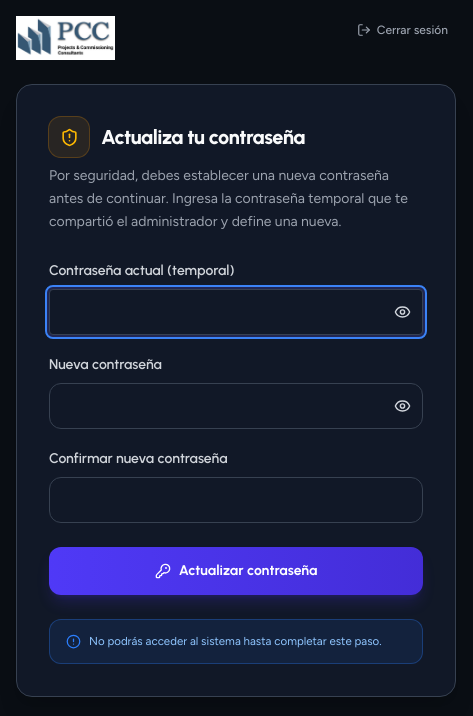
Test: ChangePasswordRequiredPage › muestra el error de contraseña actual incorrecta que devuelve el backend
Type "esto-no-es-correcto" into the password field labelled "Contraseña actual (temporal)".
click(236, 312); type("esto-no-es-correcto")  # box [49, 289, 423, 335]
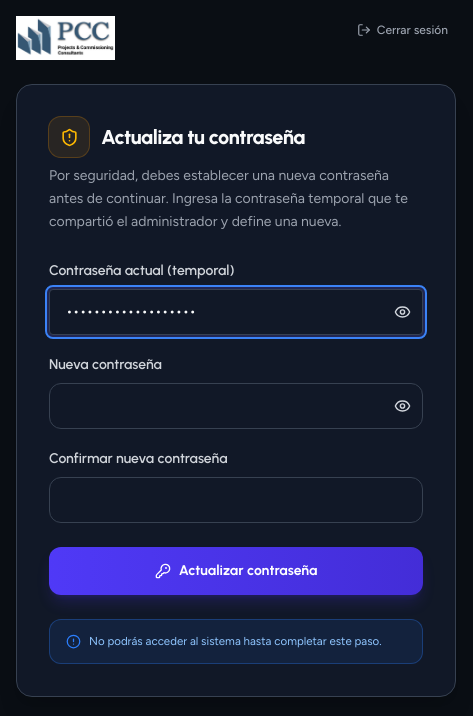
Type "NuevaPass2026super!" into the password field labelled "Nueva contraseña".
click(236, 406); type("NuevaPass2026super!")  # box [49, 383, 423, 429]
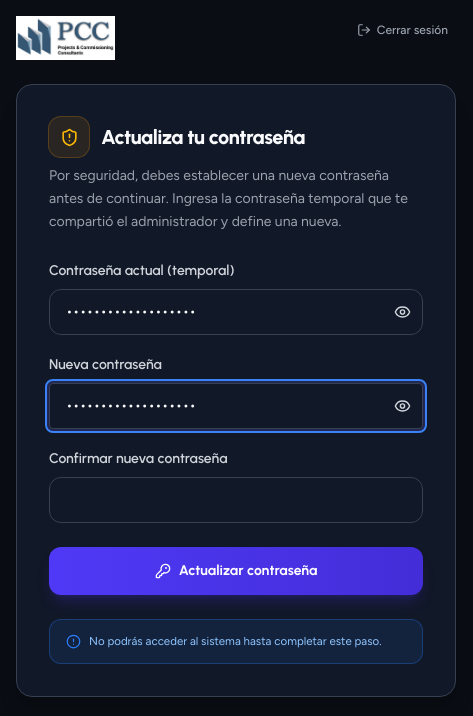
Type "NuevaPass2026super!" into the password field labelled "Confirmar nueva contraseña".
click(236, 500); type("NuevaPass2026super!")  # box [49, 477, 423, 523]
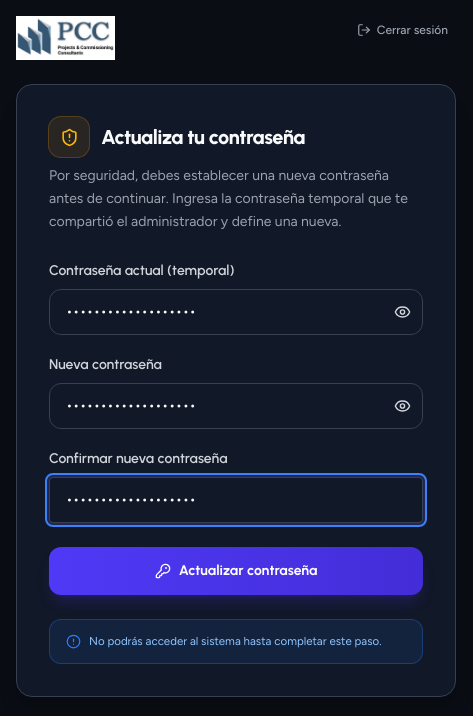
Click the button "Actualizar contraseña".
click(236, 571)  # box [49, 547, 423, 595]
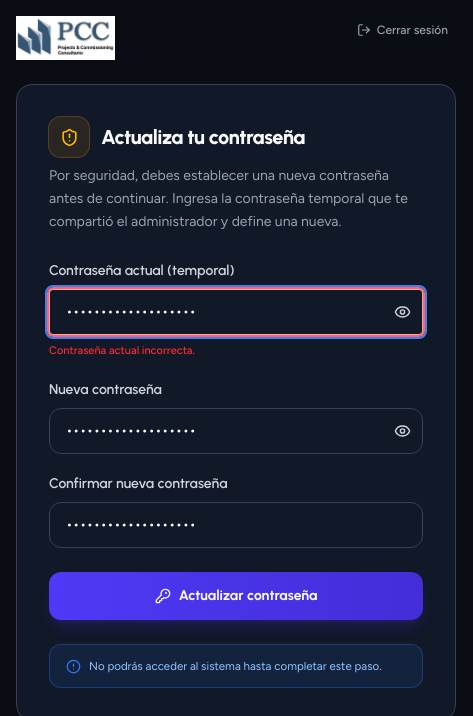
Check: the text "Contraseña actual incorrecta." is shown, box [49, 344, 195, 357]
